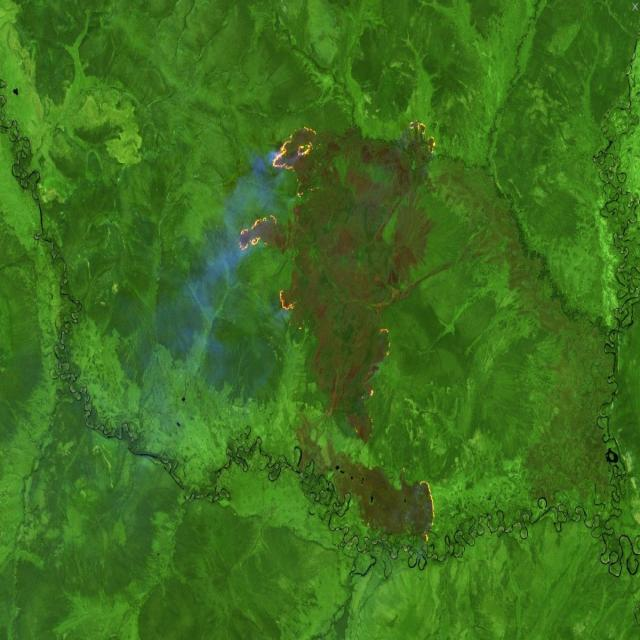fire: (237, 116, 316, 325), (359, 323, 396, 440), (416, 475, 443, 556), (404, 107, 440, 158)
